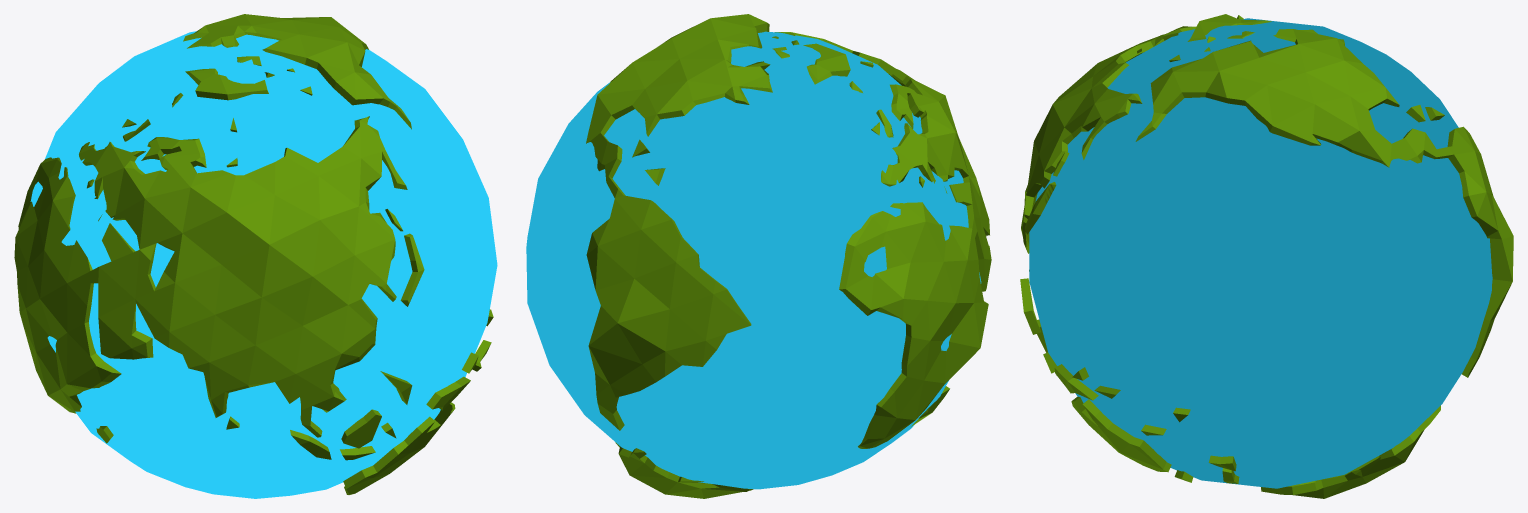
The model's file is earth.glb.
3 renders of one model, left to right at view 1: azimuth 30°, elevation 25°; view 2: azimuth 150°, elevation 25°; view 3: azimuth 270°, elevation 25°, orthographic. The views are drawn at different scales.
Parts seen in each view (by area): view 1: earth; view 2: earth; view 3: earth.
Part boxes in pixels (<box>): earth: <box>14,14,497,498</box>; earth: <box>526,14,991,498</box>; earth: <box>1020,14,1513,498</box>.
Bounding box in the file's own units: 2.33 × 2.39 × 2.4.
2 materials, 1 textured.
